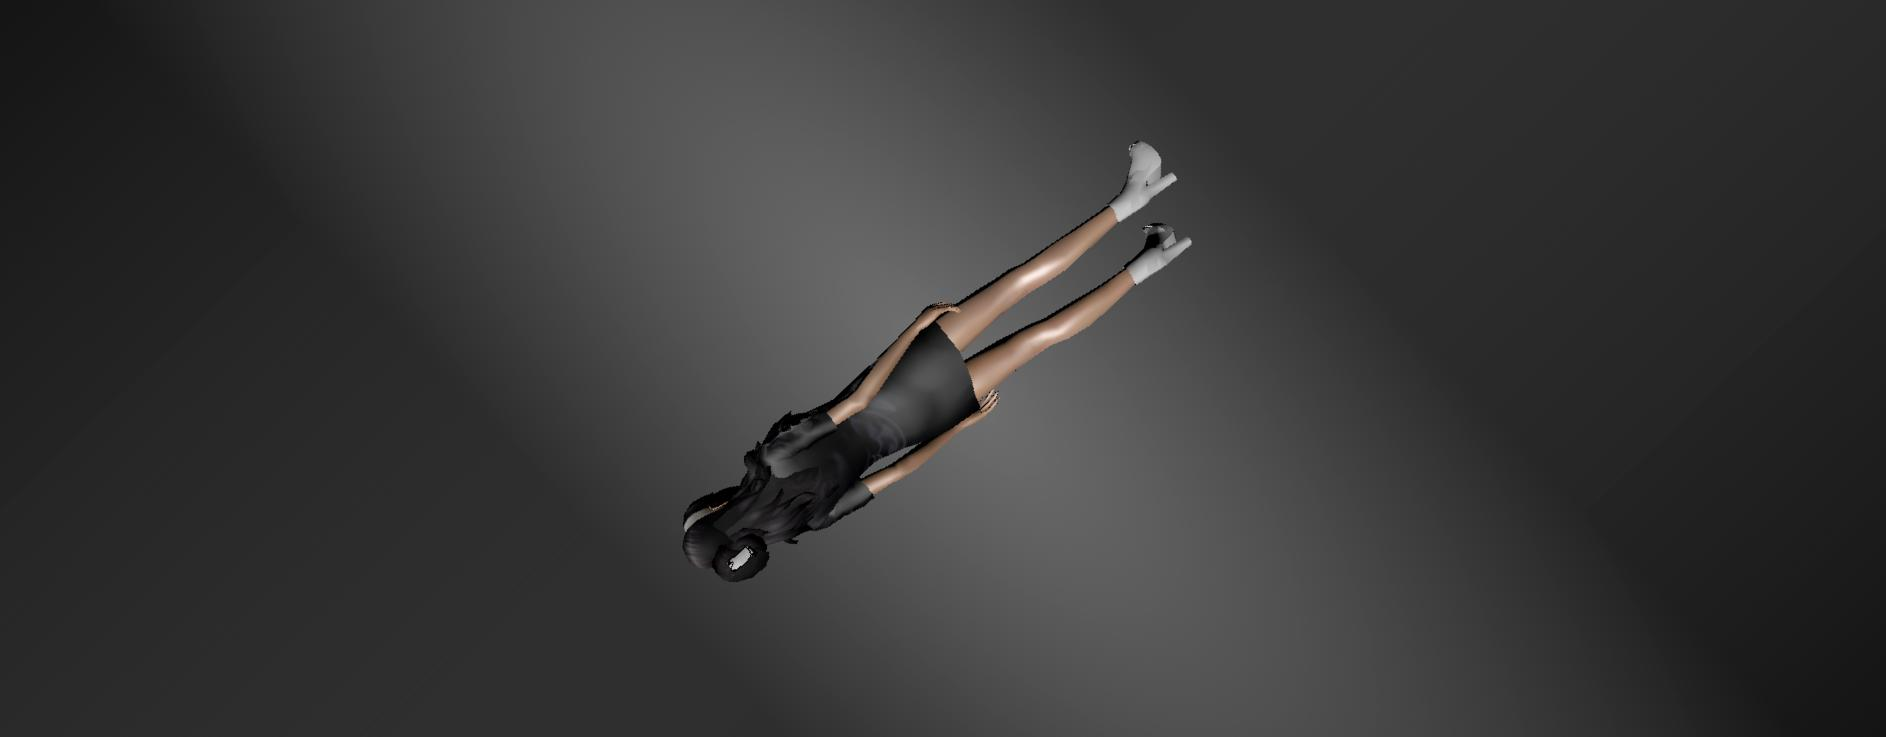clip: (724, 548, 754, 578)
